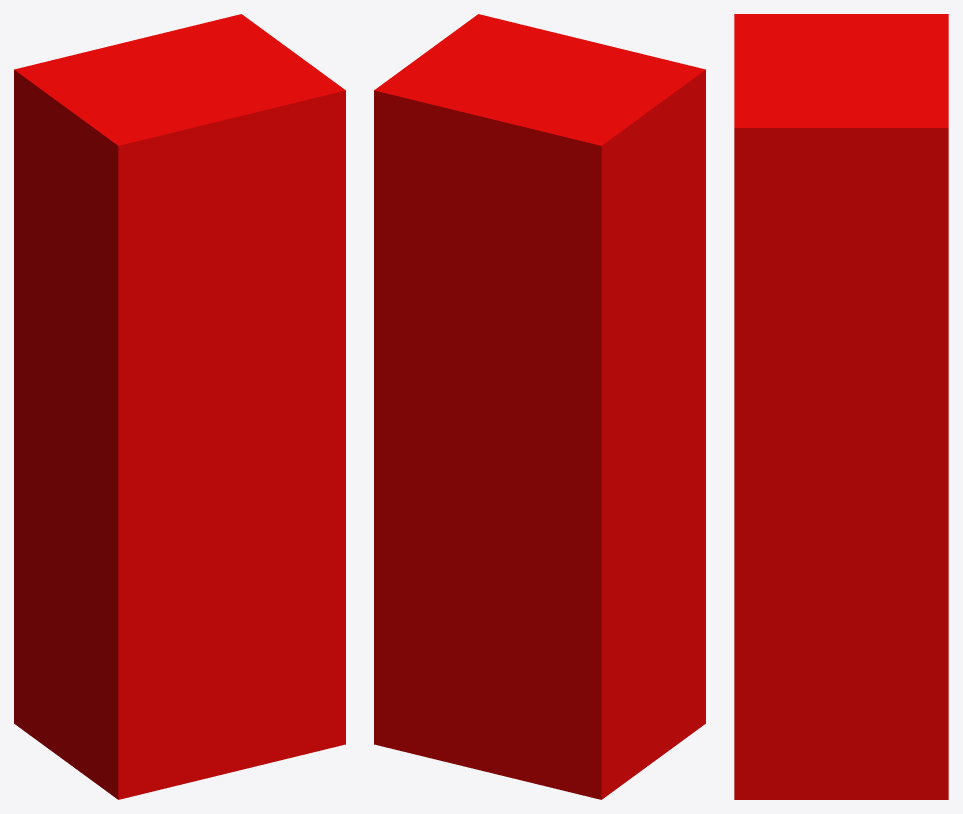
The model's file is r_clavicle_col.dae.
3 renders of one model, left to right at view 1: azimuth 30°, elevation 25°; view 2: azimuth 150°, elevation 25°; view 3: azimuth 270°, elevation 25°, orthographic. The views are drawn at different scales.
Visible parts, largest first — view 1: node0; view 2: node0; view 3: node0.
Boxes of the visible parts, left/top/right/bottom form: node0: left=14, top=14, right=345, bottom=799; node0: left=374, top=14, right=705, bottom=799; node0: left=734, top=14, right=948, bottom=799.
Bounding box in the file's own units: 0.0459 × 0.1261 × 0.0365.
